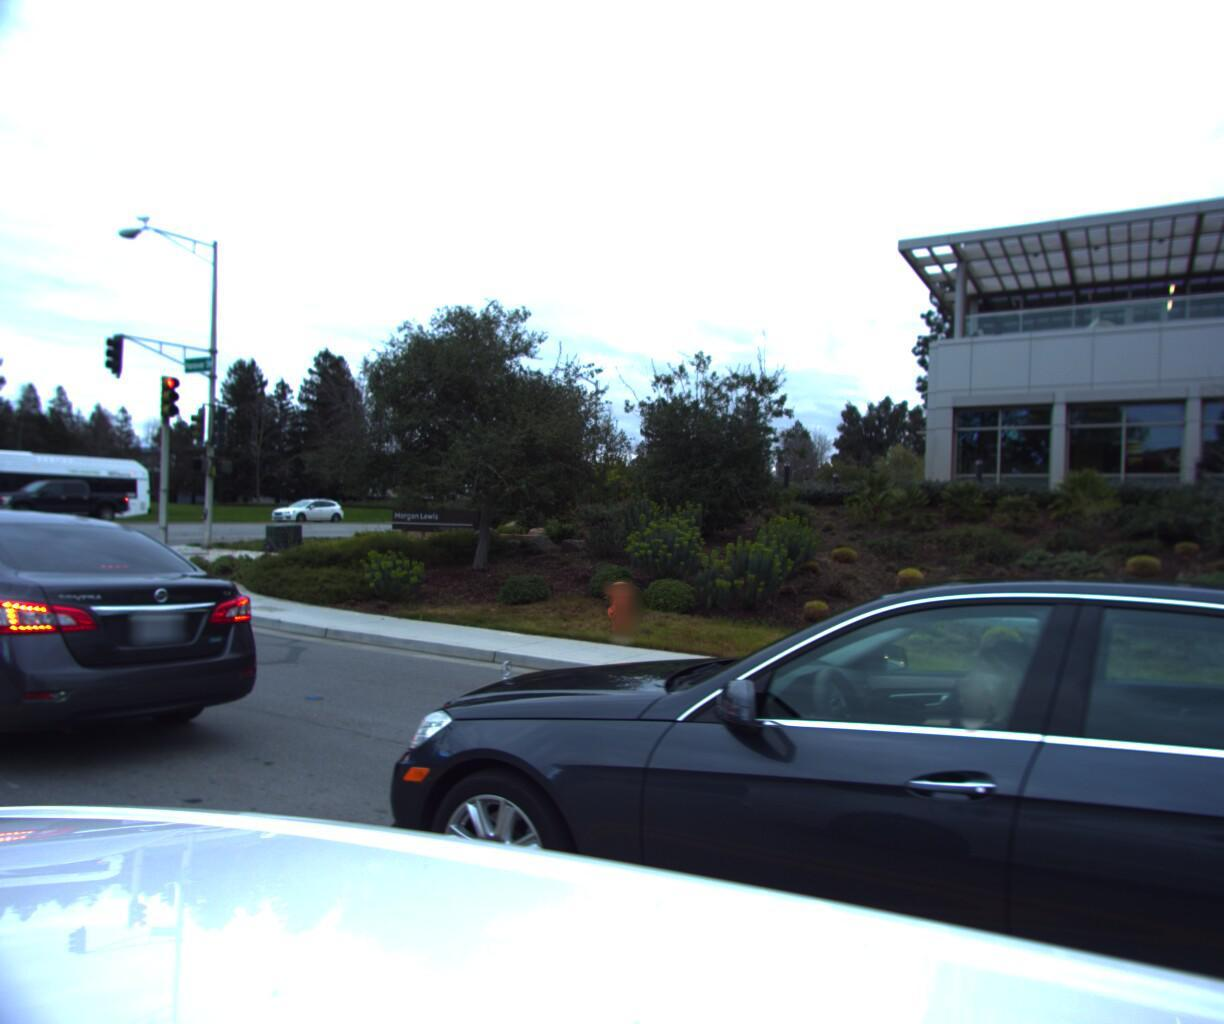bus: (0, 439, 155, 526)
car: (297, 529, 1224, 1024), (0, 493, 285, 804), (0, 479, 136, 525), (266, 499, 350, 529)
